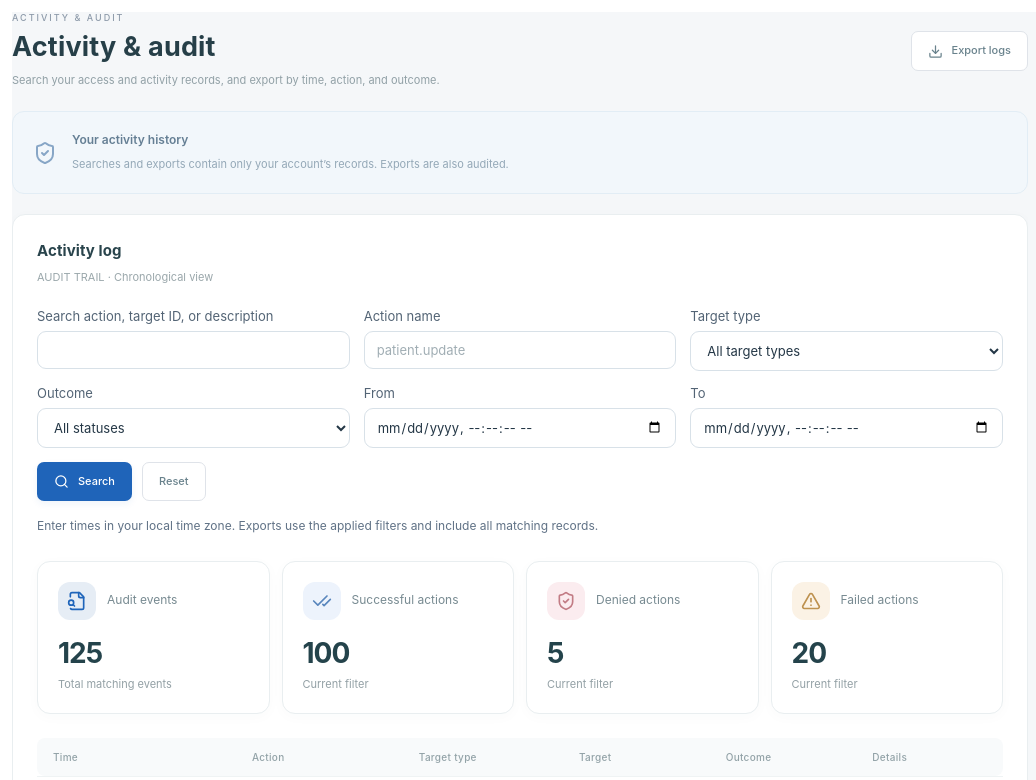
it: Audit query and export › shows an export failure without reporting a successful download
Click the button "Export logs" at (969, 51), box [910,31,1028,71]
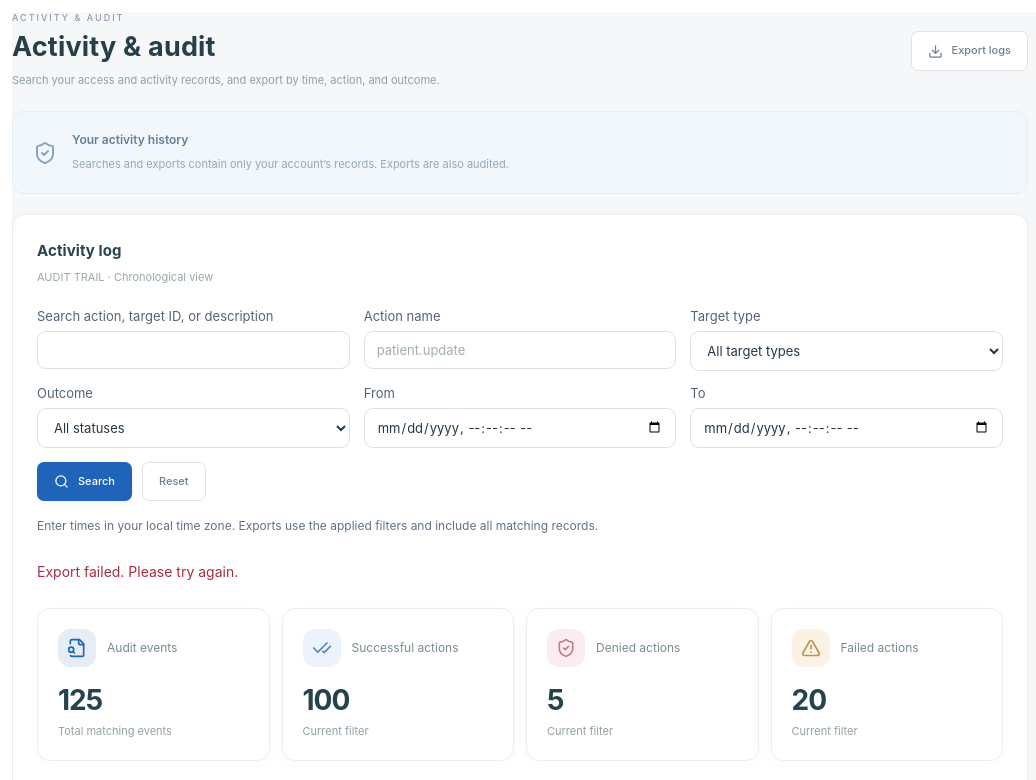
Expected: the message reads "Export failed. Please try again.", [37,563,238,580]
